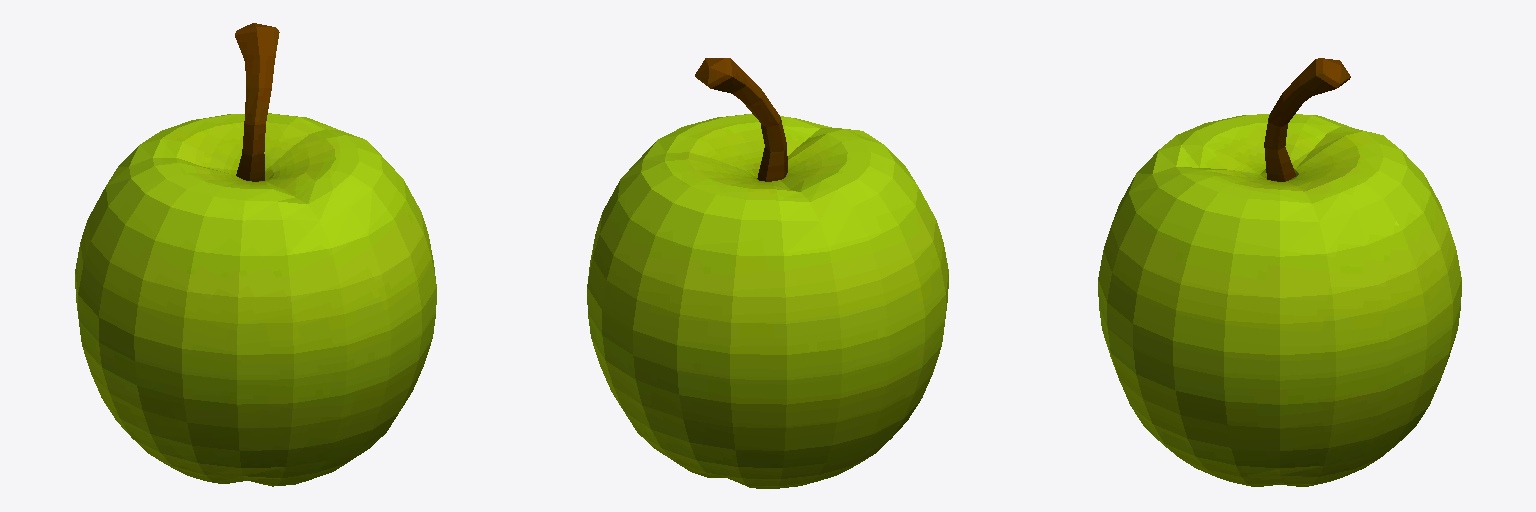
The picture shows the model from 3 angles: view 1: azimuth 30°, elevation 25°; view 2: azimuth 150°, elevation 25°; view 3: azimuth 270°, elevation 25°; orthographic projection.
Parts seen in each view (by area): view 1: Apple; view 2: Apple; view 3: Apple.
Part boxes in pixels (x1,y1,x2,y2): Apple: (75,23,436,486); Apple: (587,58,948,488); Apple: (1098,58,1461,486).
Bounding box in the file's own units: 0.1671 × 0.2111 × 0.1671.
Materials: 1 (1 with a texture image).